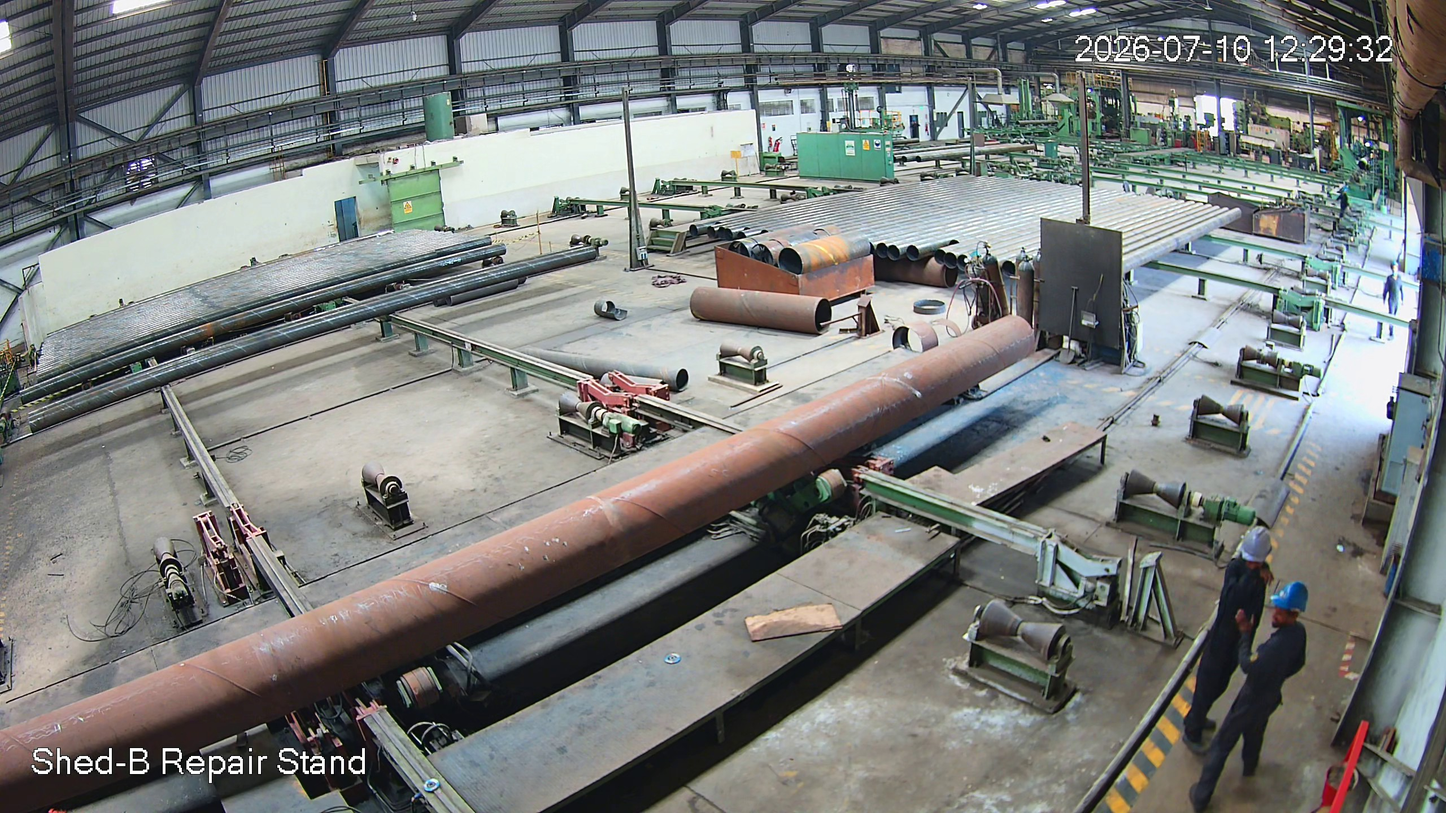Helmet: (1232, 518, 1274, 575), (1268, 575, 1310, 627)
Person: (1177, 528, 1287, 764), (1203, 579, 1311, 813)
